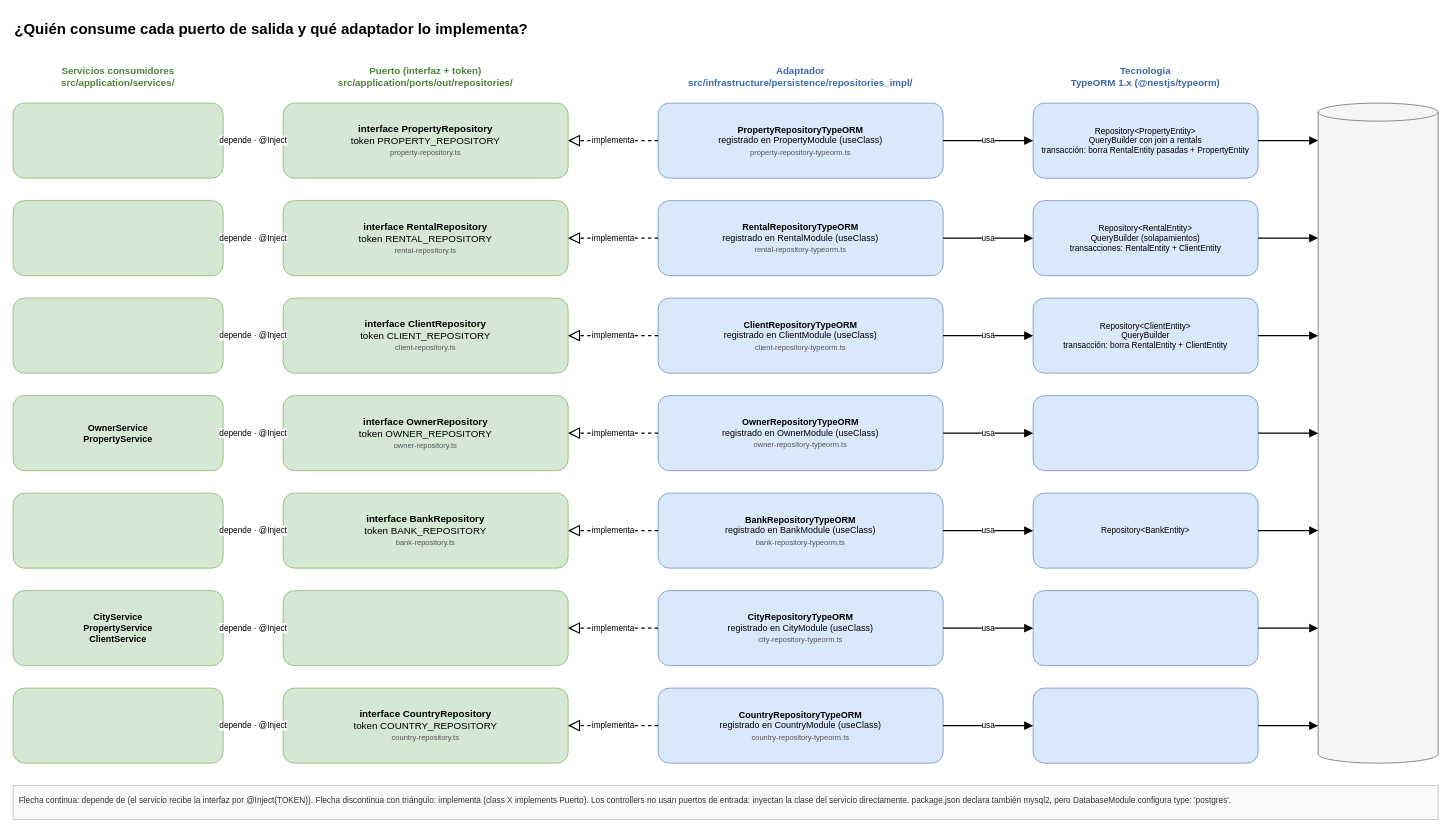
Image size: 1451x833. Some labels were removed from this diagram. The shapes that lost their labels are listed below. From the top down, each one's centre as x and y in pixels, then its label:
point 117,140: PropertyService RentalService
point 117,238: RentalService
point 117,335: ClientService RentalService
point 1145,433: Repository<OwnerEntity> QueryBuilder
point 1377,432: PostgreSQL driver pg DatabaseModule
point 117,530: BankService OwnerService PropertyService ClientService
point 425,628: interface CityRepository token CITY_REPOSITORY city-repository.ts
point 1145,628: Repository<CityEntity>
point 117,725: CountryService BankService CityService ClientService
point 1145,725: Repository<CountryEntity>
